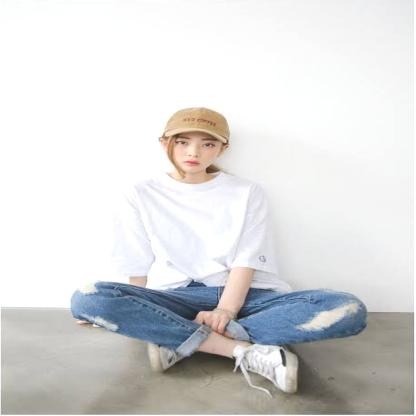dress: (106, 172, 291, 290)
